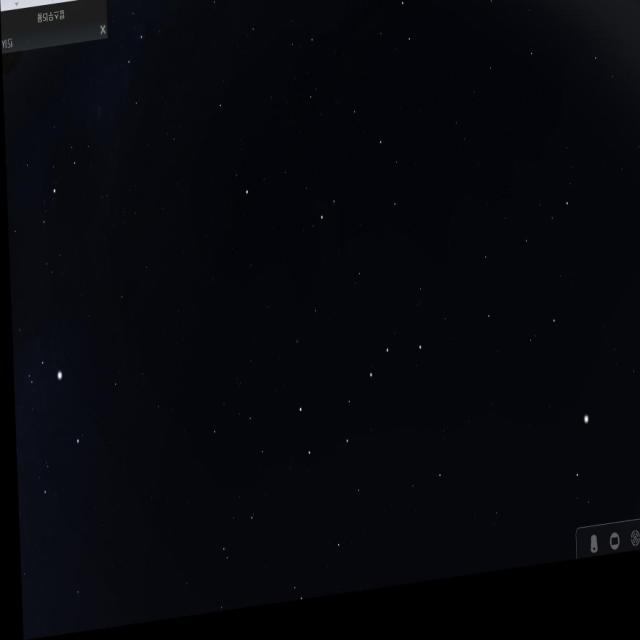cassiopeia: (121, 0, 167, 116)
ursa_major: (282, 334, 433, 480)
